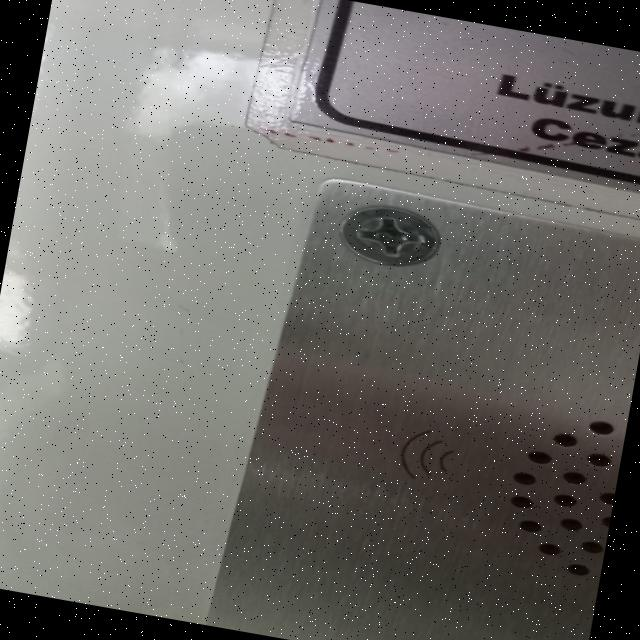Phillips: (334, 204, 446, 272)
